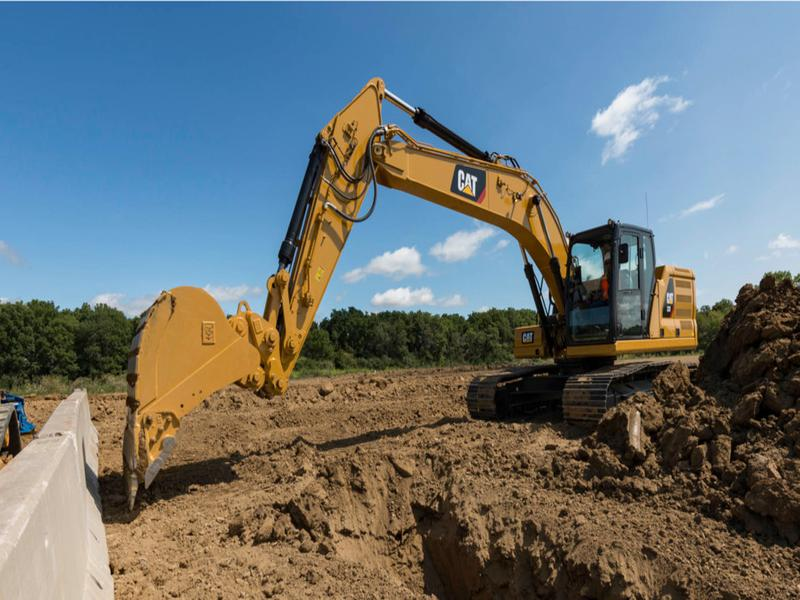shovel: (119, 68, 713, 506)
